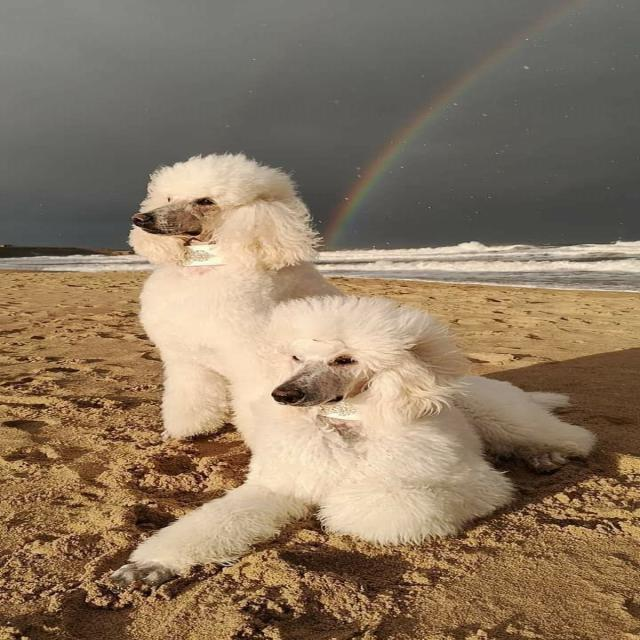Dogs: (100, 294, 610, 594), (116, 150, 468, 442)
